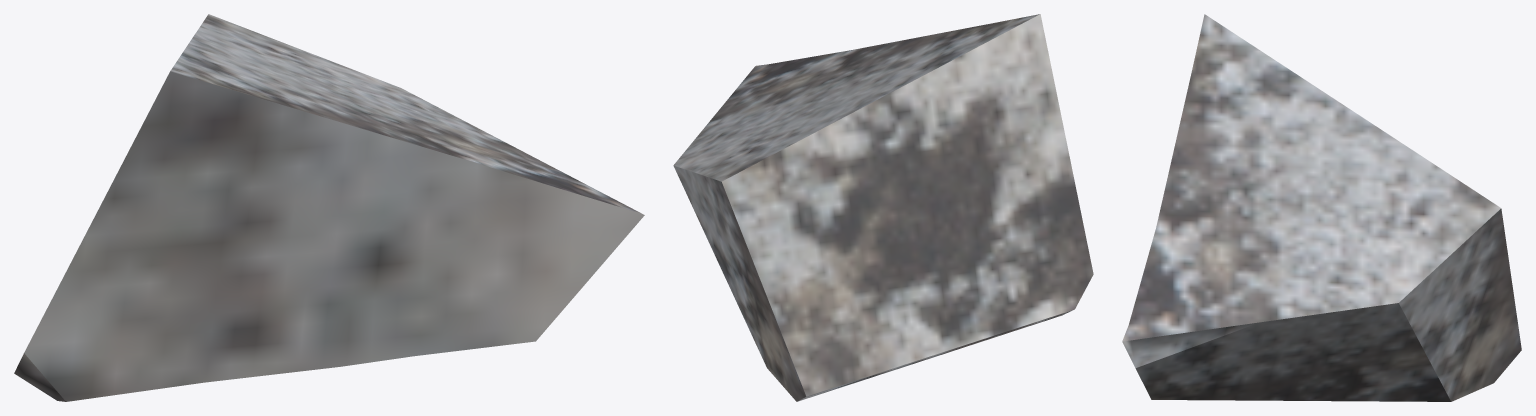
Rendered from Asteroid_Large_001_02_004_03_004.fbx.
3 renders of one model, left to right at view 1: azimuth 30°, elevation 25°; view 2: azimuth 150°, elevation 25°; view 3: azimuth 270°, elevation 25°, orthographic. The views are drawn at different scales.
Parts seen in each view (by area): view 1: Asteroid_Large_001_02_004_03_004; view 2: Asteroid_Large_001_02_004_03_004; view 3: Asteroid_Large_001_02_004_03_004.
Boxes of the visible parts, box(x1,y1,x2,y2) form: Asteroid_Large_001_02_004_03_004: box(14, 14, 644, 401); Asteroid_Large_001_02_004_03_004: box(673, 14, 1093, 401); Asteroid_Large_001_02_004_03_004: box(1122, 14, 1521, 401).
Bounding box in the file's own units: 3.85 × 2.79 × 3.18.
